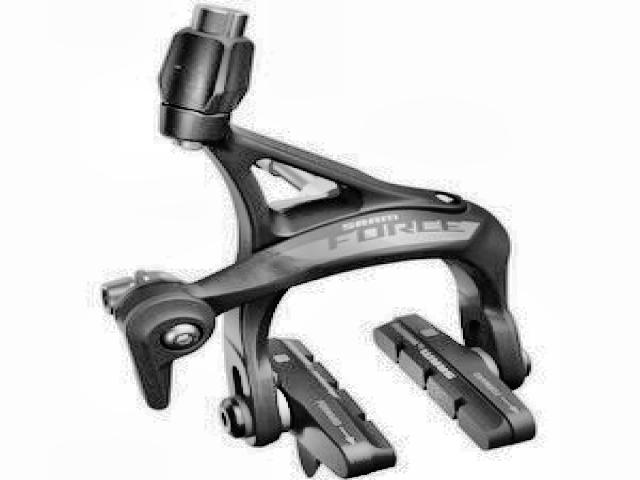rim_brake: (101, 3, 540, 479)
